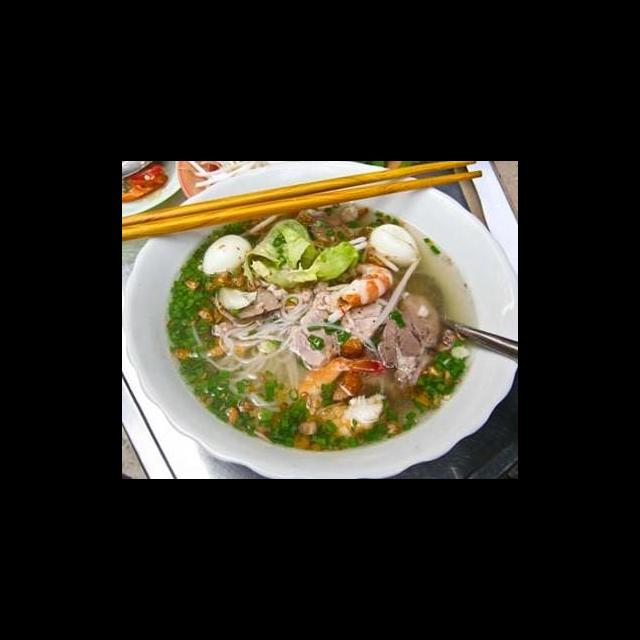banh hu tieu: (185, 291, 319, 414)
hu tieu: (156, 213, 487, 479)
thit heo: (286, 277, 393, 369)
tom: (292, 353, 392, 441), (325, 256, 397, 315)
trung: (366, 219, 424, 272), (200, 231, 254, 280)
